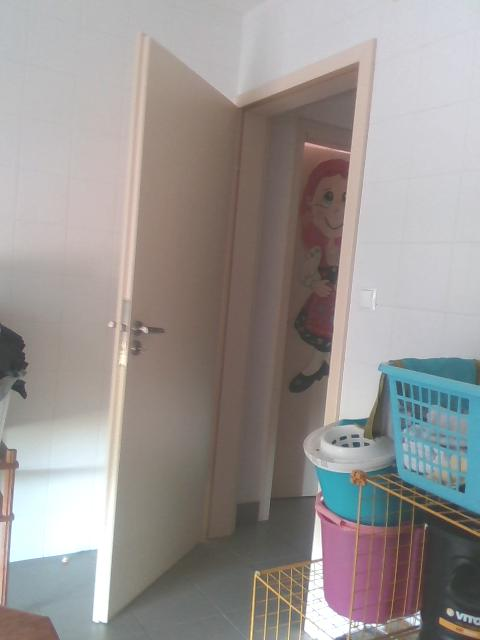semi_door: (89, 26, 378, 626)
